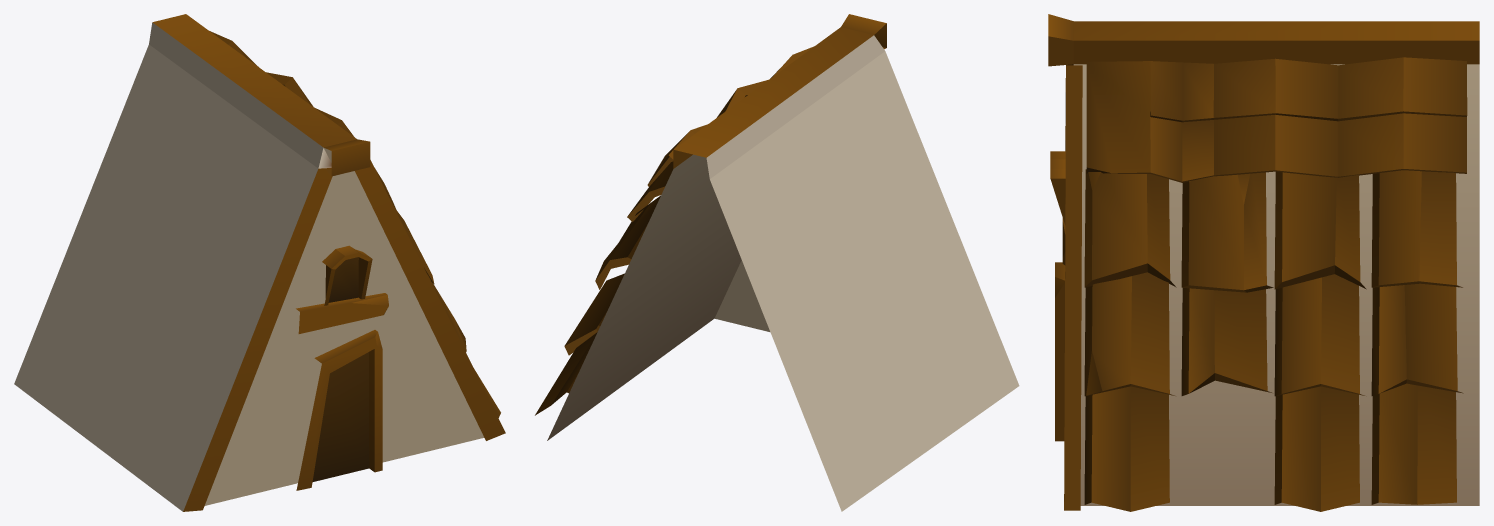
File: House.fbx
3 views of the same model, side by side, from view 1: azimuth 30°, elevation 25°; view 2: azimuth 150°, elevation 25°; view 3: azimuth 270°, elevation 25° (orthographic). The views are drawn at different scales.
Parts seen in each view (by area): view 1: House; view 2: House; view 3: House.
Boxes of the visible parts, box(x1,y1,x2,y2) form: House: box(14, 14, 505, 511); House: box(535, 14, 1019, 511); House: box(1048, 14, 1479, 511).
Bounding box in the file's own units: 134 × 130 × 128.
